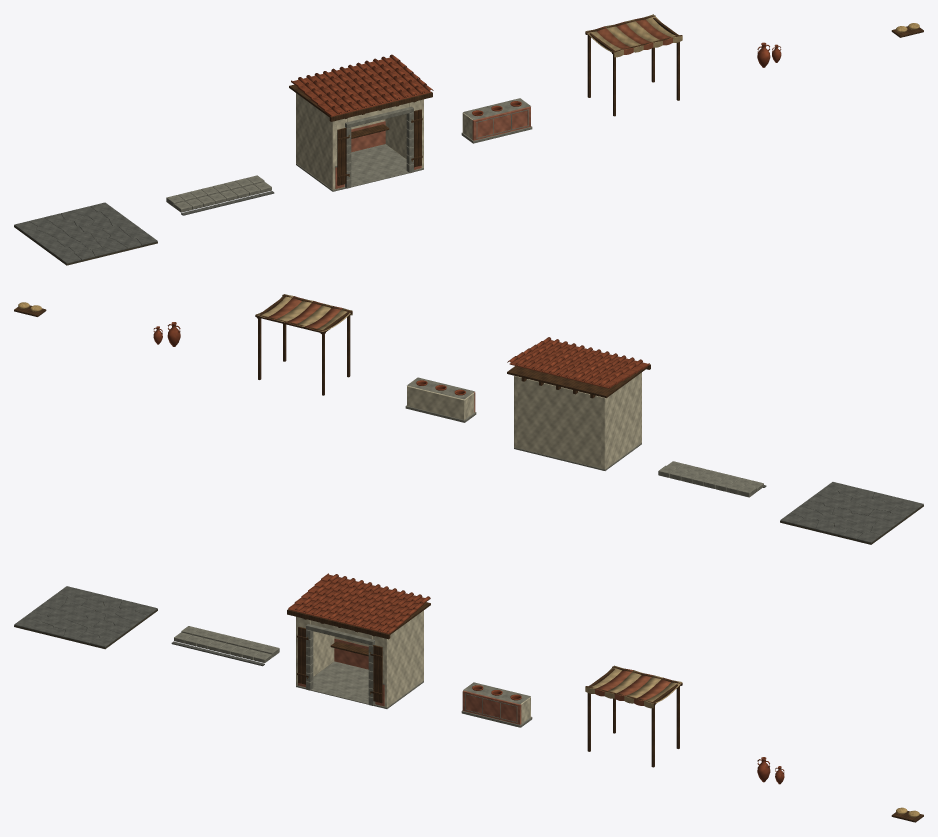
File: city_architecture_library.glb
The picture shows the model from 3 angles, top to bottom: view 1: azimuth 30°, elevation 25°; view 2: azimuth 150°, elevation 25°; view 3: azimuth 330°, elevation 25°; orthographic projection.
Visible parts, largest first — view 1: taberna_4m_lod0, basoli_4m_lod0, market_canopy_lod0, dolia_counter_lod0, curb_4m_lod0; view 2: taberna_4m_lod0, basoli_4m_lod0, market_canopy_lod0, dolia_counter_lod0, curb_4m_lod0; view 3: taberna_4m_lod0, basoli_4m_lod0, market_canopy_lod0, dolia_counter_lod0, curb_4m_lod0.
Boxes of the visible parts, x1=… form: taberna_4m_lod0: x1=289, y1=54, x2=433, y2=191; basoli_4m_lod0: x1=14, y1=202, x2=157, y2=265; market_canopy_lod0: x1=585, y1=14, x2=682, y2=116; dolia_counter_lod0: x1=461, y1=98, x2=532, y2=143; curb_4m_lod0: x1=166, y1=175, x2=274, y2=215; taberna_4m_lod0: x1=507, y1=337, x2=650, y2=470; basoli_4m_lod0: x1=780, y1=482, x2=923, y2=544; market_canopy_lod0: x1=255, y1=294, x2=352, y2=395; dolia_counter_lod0: x1=405, y1=377, x2=476, y2=422; curb_4m_lod0: x1=658, y1=461, x2=766, y2=497; taberna_4m_lod0: x1=287, y1=573, x2=430, y2=708; basoli_4m_lod0: x1=14, y1=586, x2=157, y2=649; market_canopy_lod0: x1=585, y1=665, x2=682, y2=767; dolia_counter_lod0: x1=461, y1=682, x2=532, y2=727; curb_4m_lod0: x1=171, y1=626, x2=279, y2=666.
Size of what is drawn, in the model's own units: 38.52 by 3.68 by 4.
Materials: 11 (11 with a texture image).
